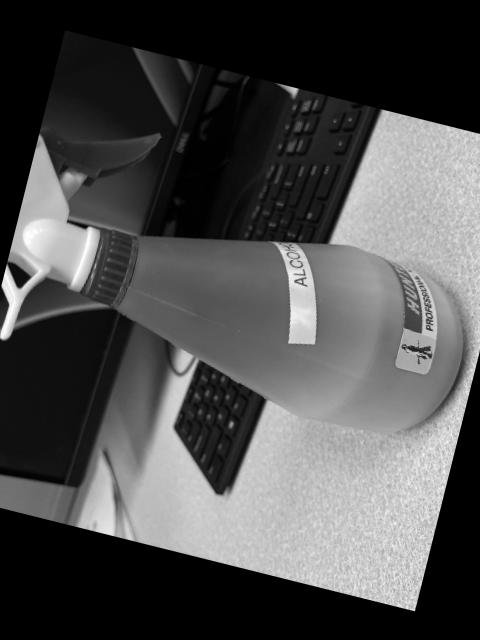AlcoholSpray: (0, 126, 469, 434)
